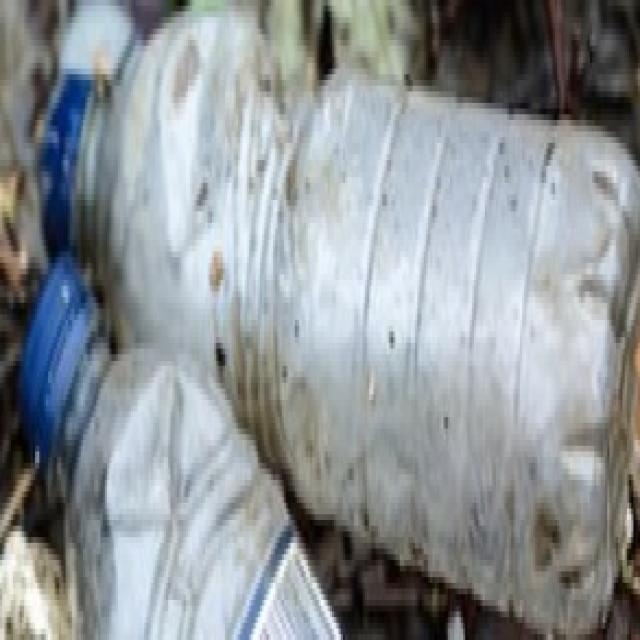plastic bottle: (38, 0, 640, 581)
